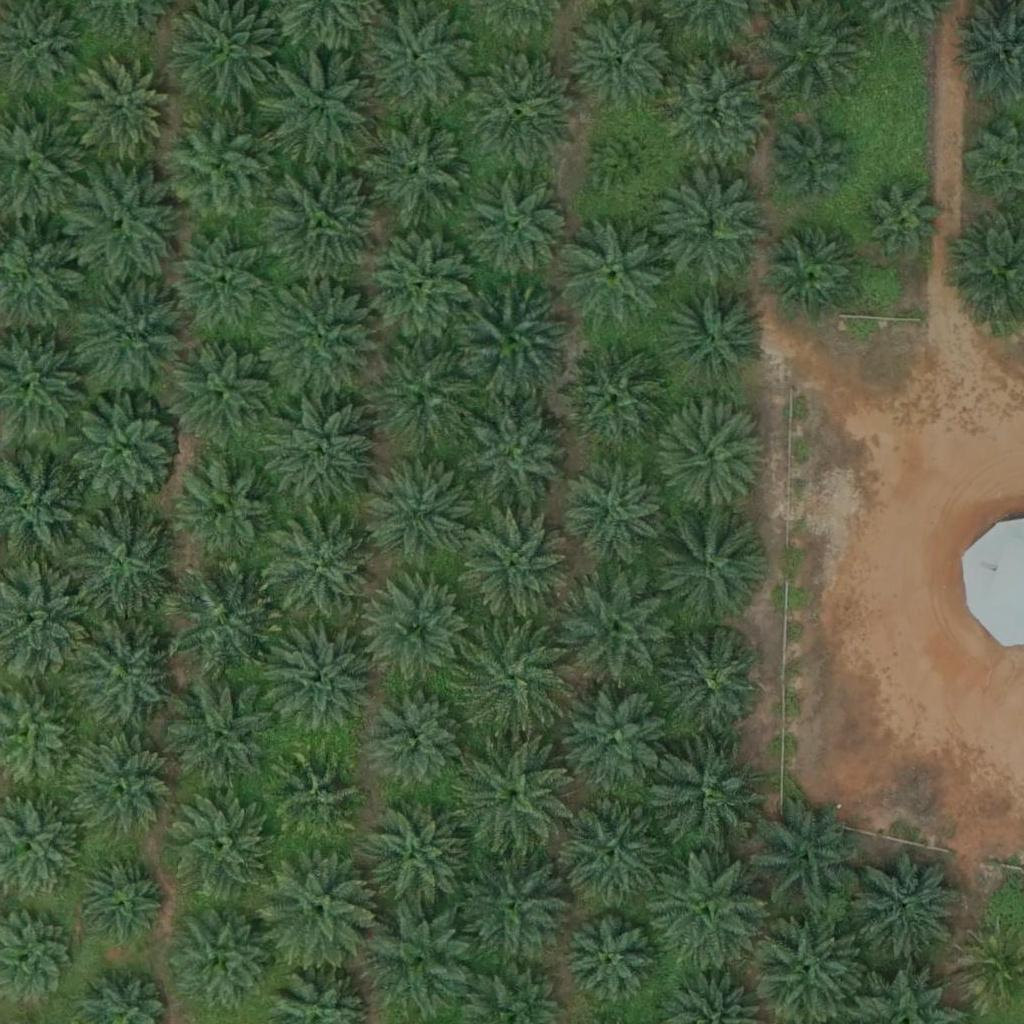Kelapa_Sawit: (660, 51, 773, 165), (161, 108, 274, 222), (266, 166, 379, 280), (266, 284, 379, 398), (365, 340, 478, 454), (366, 455, 479, 569), (854, 851, 967, 965), (752, 802, 865, 916), (265, 47, 378, 160), (262, 397, 375, 510), (269, 515, 382, 628), (362, 574, 475, 687), (558, 218, 671, 331), (555, 340, 668, 453), (654, 175, 767, 288), (658, 279, 771, 392), (658, 402, 771, 515), (653, 514, 766, 627), (457, 741, 570, 854), (456, 846, 569, 959), (359, 795, 472, 908), (68, 618, 181, 731), (367, 230, 479, 344), (459, 395, 571, 509), (458, 512, 570, 626), (561, 573, 673, 687), (752, 908, 864, 1022), (655, 741, 767, 855), (464, 56, 576, 169), (367, 3, 479, 116), (69, 167, 181, 280), (75, 279, 187, 392), (69, 391, 181, 504), (64, 504, 176, 617), (168, 334, 280, 447), (165, 564, 277, 677), (361, 112, 473, 225), (459, 288, 571, 401), (453, 621, 565, 734), (652, 855, 764, 968), (556, 800, 668, 913), (365, 902, 477, 1015), (263, 851, 375, 964), (162, 790, 274, 903), (558, 685, 670, 798), (262, 618, 374, 731), (166, 677, 278, 790), (73, 56, 173, 157), (177, 457, 277, 558), (469, 177, 569, 278), (173, 910, 273, 1011), (70, 732, 170, 833), (574, 9, 674, 109), (172, 235, 272, 335), (564, 460, 664, 560), (663, 633, 763, 733), (769, 231, 857, 320), (273, 752, 361, 841), (565, 919, 652, 1007), (75, 856, 162, 944), (374, 695, 461, 783), (778, 131, 853, 207), (864, 182, 939, 257), (595, 134, 657, 197)
